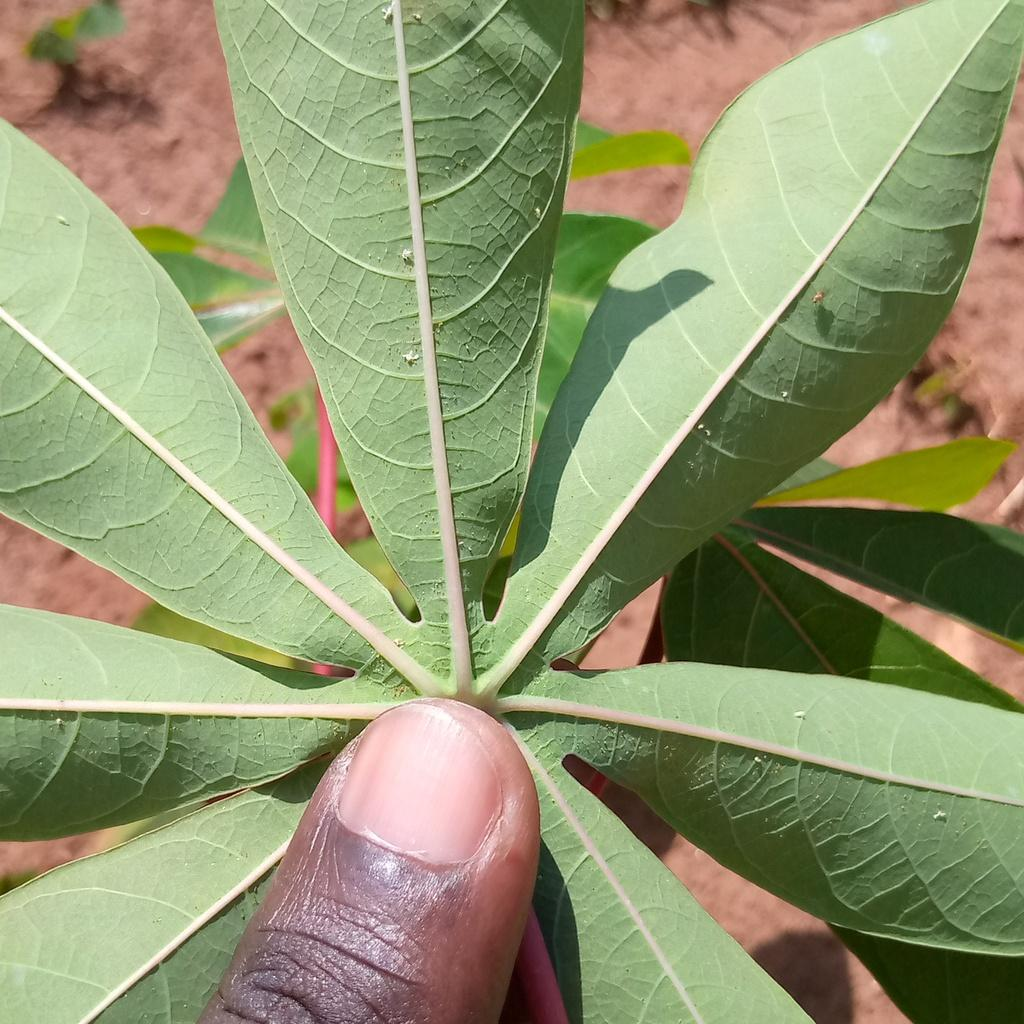adult: (403, 350, 419, 363), (380, 6, 393, 21), (401, 249, 412, 261), (933, 810, 946, 820), (534, 207, 541, 219), (793, 710, 804, 717), (703, 430, 711, 437), (697, 424, 705, 431), (781, 391, 788, 398)
